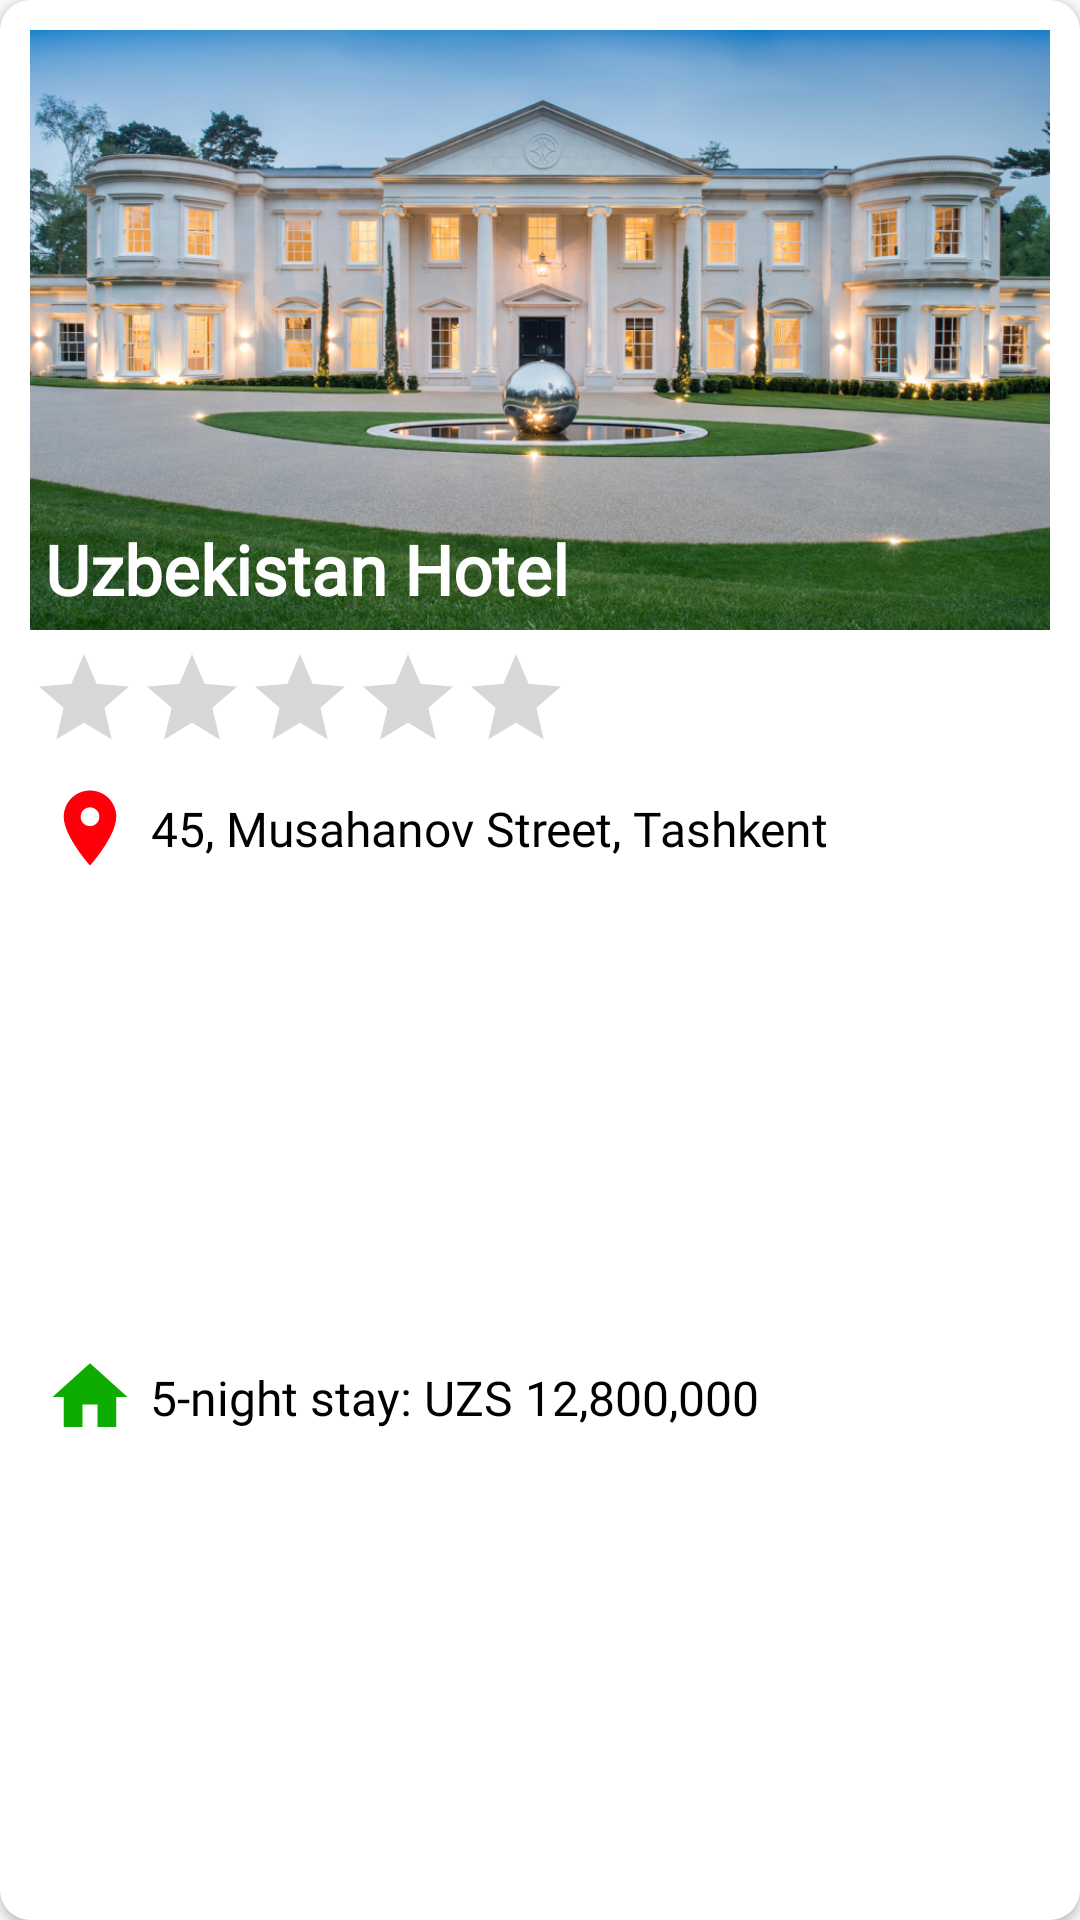

Point at icon controls on the screen. Image size 1080 × 1920, points as [x,y].
home: [90,1395]
place: [90,827]
